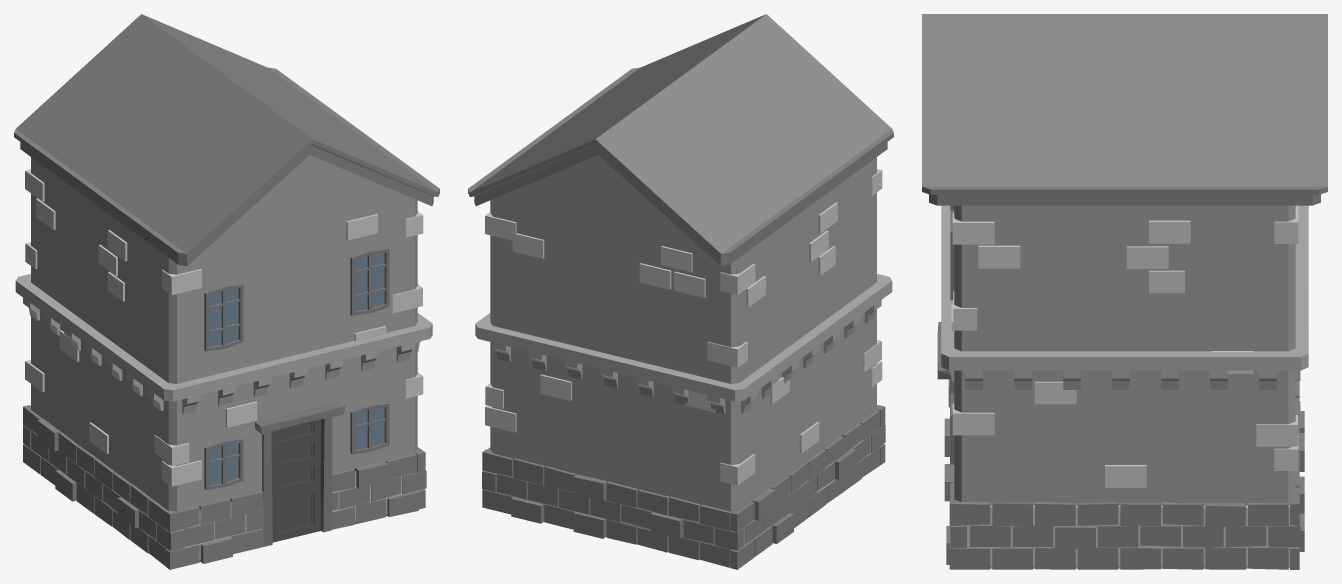
File: qtb_2story_gableroof.fbx
3 views of the same model, side by side, from view 1: azimuth 30°, elevation 25°; view 2: azimuth 150°, elevation 25°; view 3: azimuth 270°, elevation 25° (orthographic). The views are drawn at different scales.
Parts seen in each view (by area): view 1: qtb_2story_gableroof_LOD0; view 2: qtb_2story_gableroof_LOD0; view 3: qtb_2story_gableroof_LOD0.
Part boxes in pixels (left/top/right/bottom): qtb_2story_gableroof_LOD0: left=14, top=14, right=439, bottom=569; qtb_2story_gableroof_LOD0: left=468, top=14, right=893, bottom=569; qtb_2story_gableroof_LOD0: left=922, top=14, right=1327, bottom=569.
Size of what is drawn, in the model's own units: 5.83 by 8.46 by 6.43.
1 material, 1 textured.
